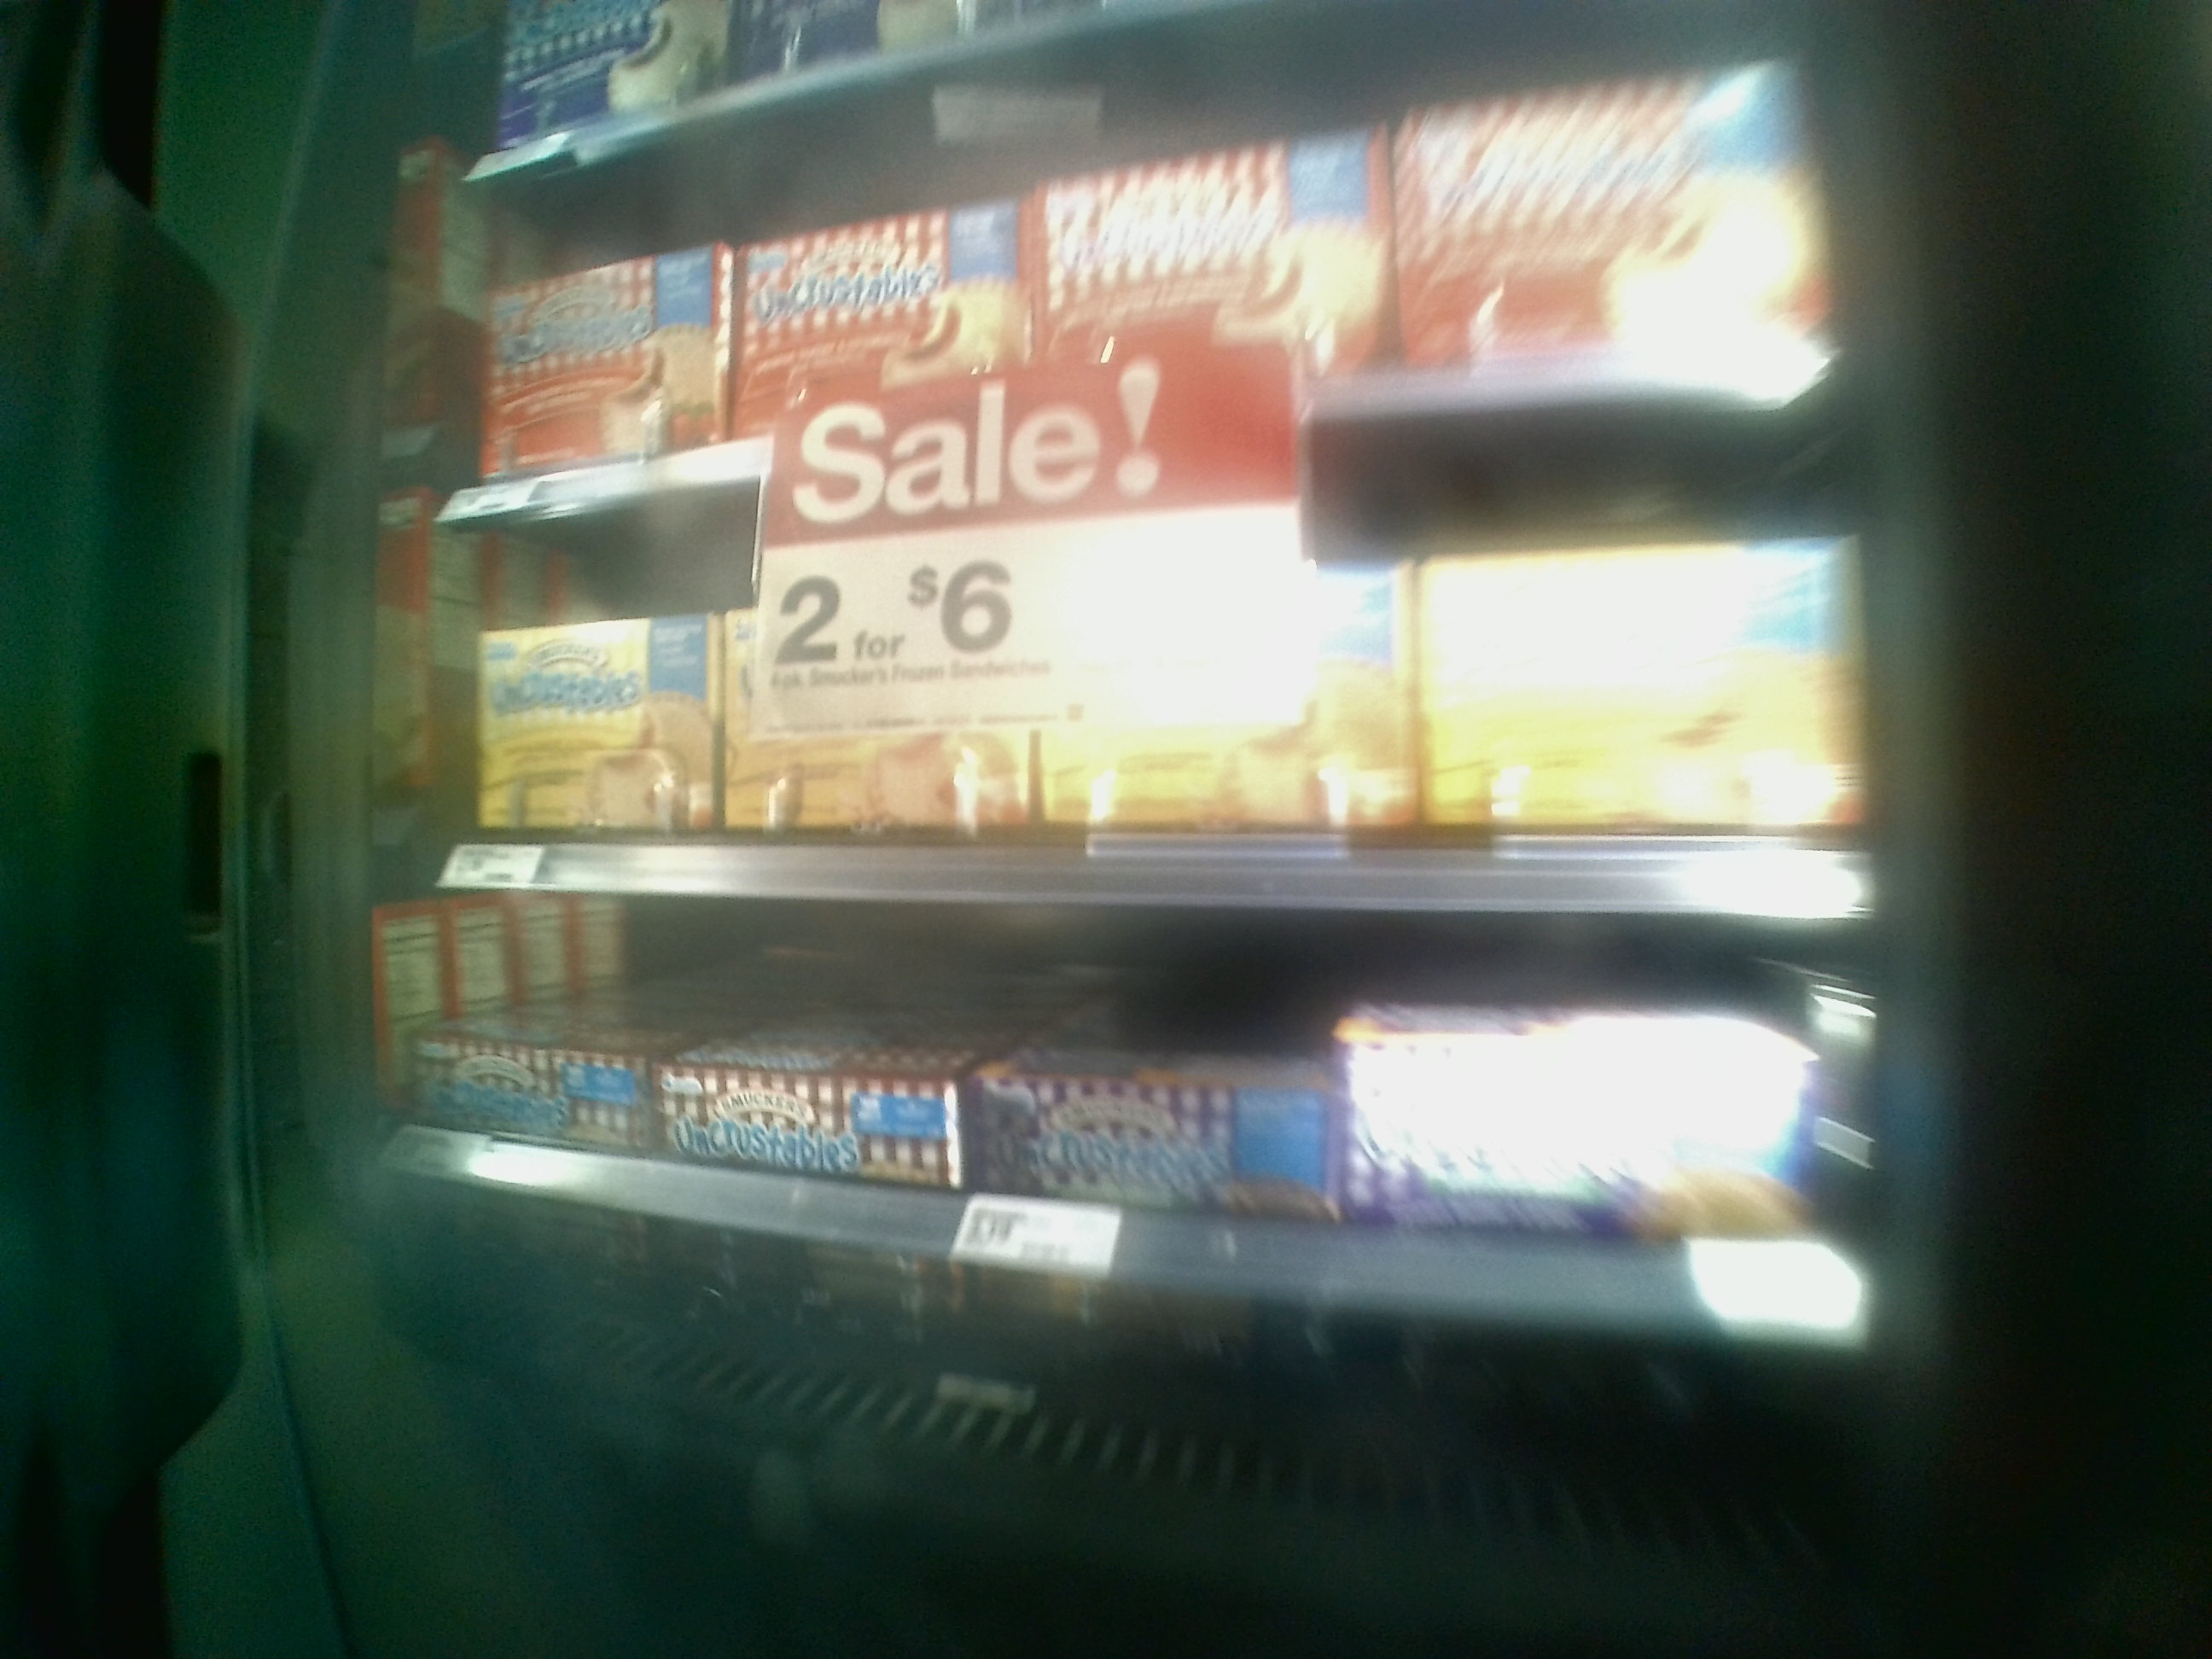shelf: (399, 884, 1881, 1425), (418, 498, 1886, 946), (439, 171, 1848, 491)
